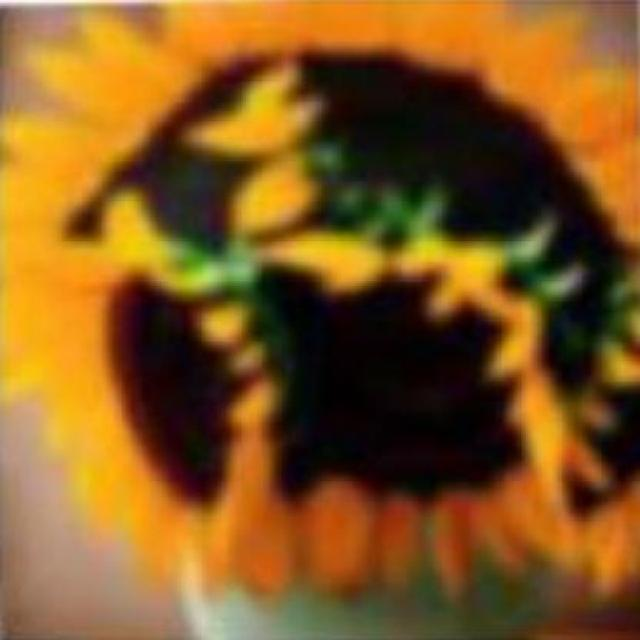sunflower: (238, 223, 581, 602), (22, 186, 286, 594)
